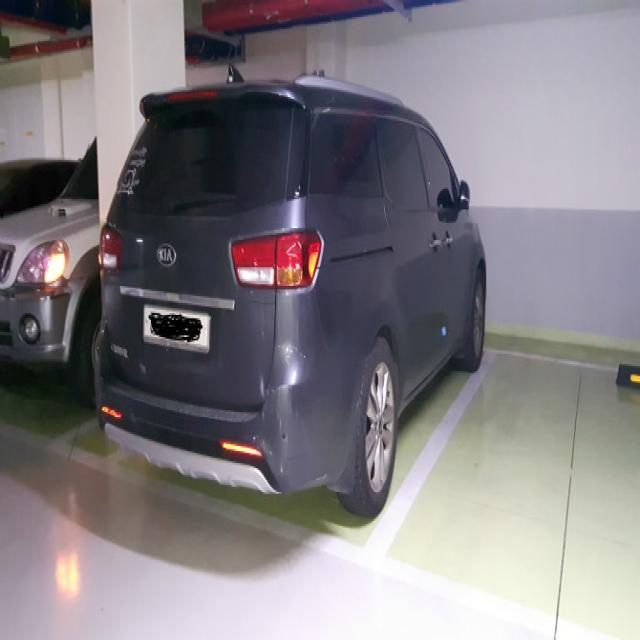empty: (391, 326, 640, 567)
occupied: (98, 91, 490, 525)
